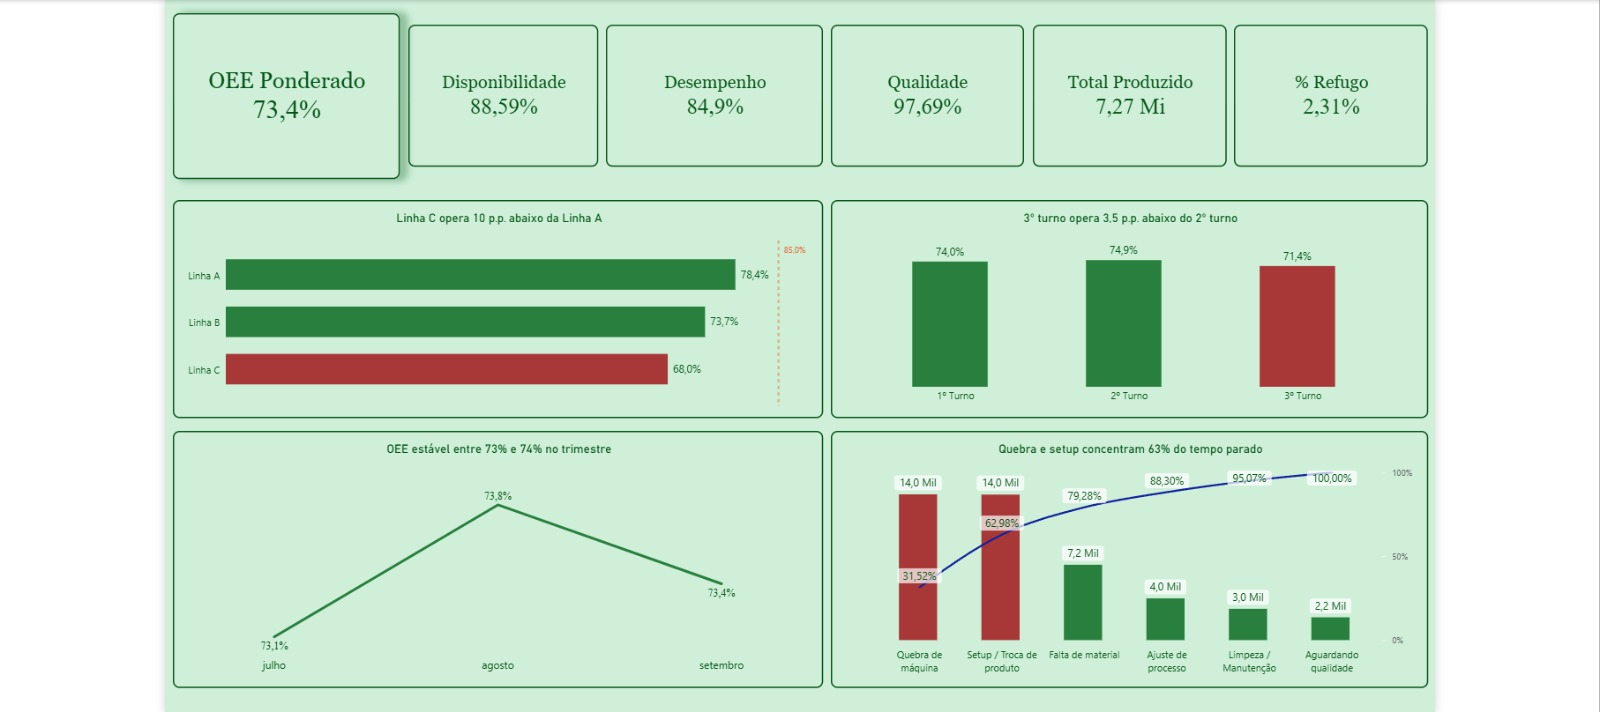

Layout of this report page (visuals, bound fields, positions):
{"tool":"powerbi","page":{"name":"Página 1","canvas":[1920,1080],"ordinal":0},"visuals":[{"type":"cardVisual","fields":{"Data":["oee_turnos.OEE Ponderado desemp"]},"box":[666.7,37.8,328.1,214.7],"z":5000},{"type":"cardVisual","fields":{"Data":["oee_turnos.OEE Ponderado disp"]},"box":[367.4,37.8,287.2,214.7],"z":5001},{"type":"cardVisual","fields":{"Data":["oee_turnos.OEE Ponderado qual"]},"box":[1006.9,37.8,291.8,214.7],"z":5002},{"type":"cardVisual","fields":{"Data":["oee_turnos.OEE Ponderado"]},"box":[12.1,19.7,343.2,251],"z":5003},{"type":"cardVisual","fields":{"Data":["oee_turnos.Total Produzido"]},"box":[1312.3,37.8,293.3,214.7],"z":5004},{"type":"cardVisual","fields":{"Data":["oee_turnos.% Refugo"]},"box":[1616.1,37.8,293.3,214.7],"z":5005},{"type":"clusteredBarChart","title":"Linha C opera 10 p.p. abaixo da Linha A","fields":{"Category":["oee_turnos.linha"],"Y":["oee_turnos.OEE Ponderado"]},"box":[12.1,302.4,982.7,329.6],"z":5006},{"type":"clusteredColumnChart","title":"3º turno opera 3,5 p.p. abaixo do 2º turno","fields":{"Category":["oee_turnos.turno"],"Y":["oee_turnos.OEE Ponderado"]},"box":[1006.9,302.4,902.6,329.6],"z":5007},{"type":"lineClusteredColumnComboChart","title":"Quebra e setup concentram 63% do tempo parado","fields":{"Category":["pareto_paradas (2).motivo"],"Y":["Sum(pareto_paradas (2).duracao_min)"],"Y2":["Max(pareto_paradas (2).pct_acumulado)"]},"box":[1006.9,651.6,902.6,388.5],"z":5008},{"type":"lineChart","title":"OEE estável entre 73% e 74% no trimestre","fields":{"Category":["oee_turnos.data.Variation.Hierarquia de datas.Mês"],"Y":["oee_turnos.OEE Ponderado"]},"box":[12.1,651.6,982.7,388.5],"z":5009}]}

Visuals, with their boxes in screenshot pixels (x1, y1, x2, y2):
cardVisual - oee_turnos.OEE Ponderado desemp: 596/17/817/162
cardVisual - oee_turnos.OEE Ponderado disp: 394/17/587/162
cardVisual - oee_turnos.OEE Ponderado qual: 825/17/1022/162
cardVisual - oee_turnos.OEE Ponderado: 154/5/385/174
cardVisual - oee_turnos.Total Produzido: 1031/17/1229/162
cardVisual - oee_turnos.% Refugo: 1236/17/1434/162
"Linha C opera 10 p.p. abaixo da Linha A" clusteredBarChart: 154/196/817/418
"3º turno opera 3,5 p.p. abaixo do 2º turno" clusteredColumnChart: 825/196/1434/418
"Quebra e setup concentram 63% do tempo parado" lineClusteredColumnComboChart: 825/431/1434/693
"OEE estável entre 73% e 74% no trimestre" lineChart: 154/431/817/693
